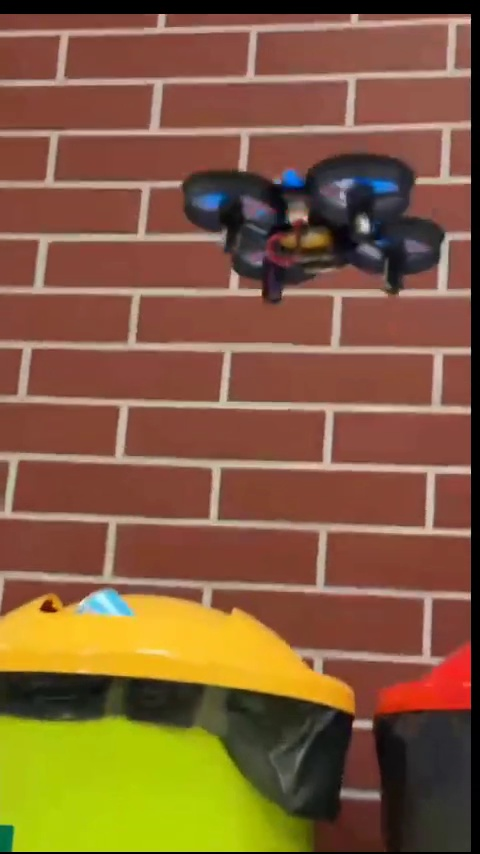drone: (177, 156, 456, 295)
